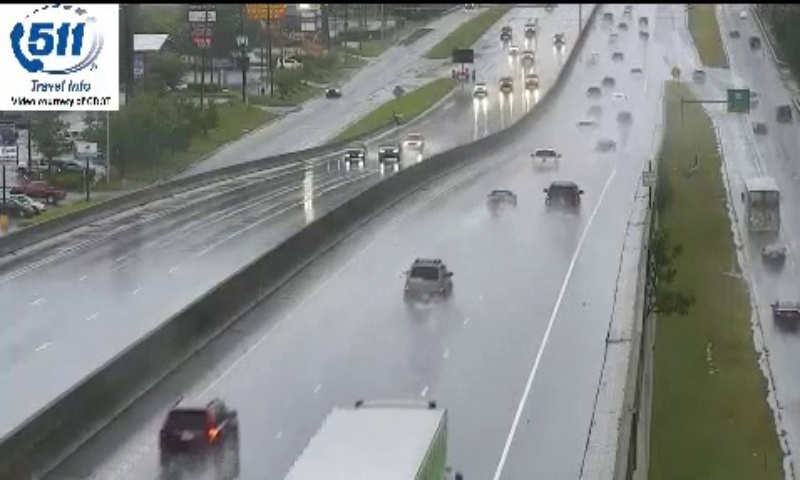car: (160, 398, 239, 457), (403, 259, 451, 304), (546, 181, 581, 215), (532, 148, 557, 169)
